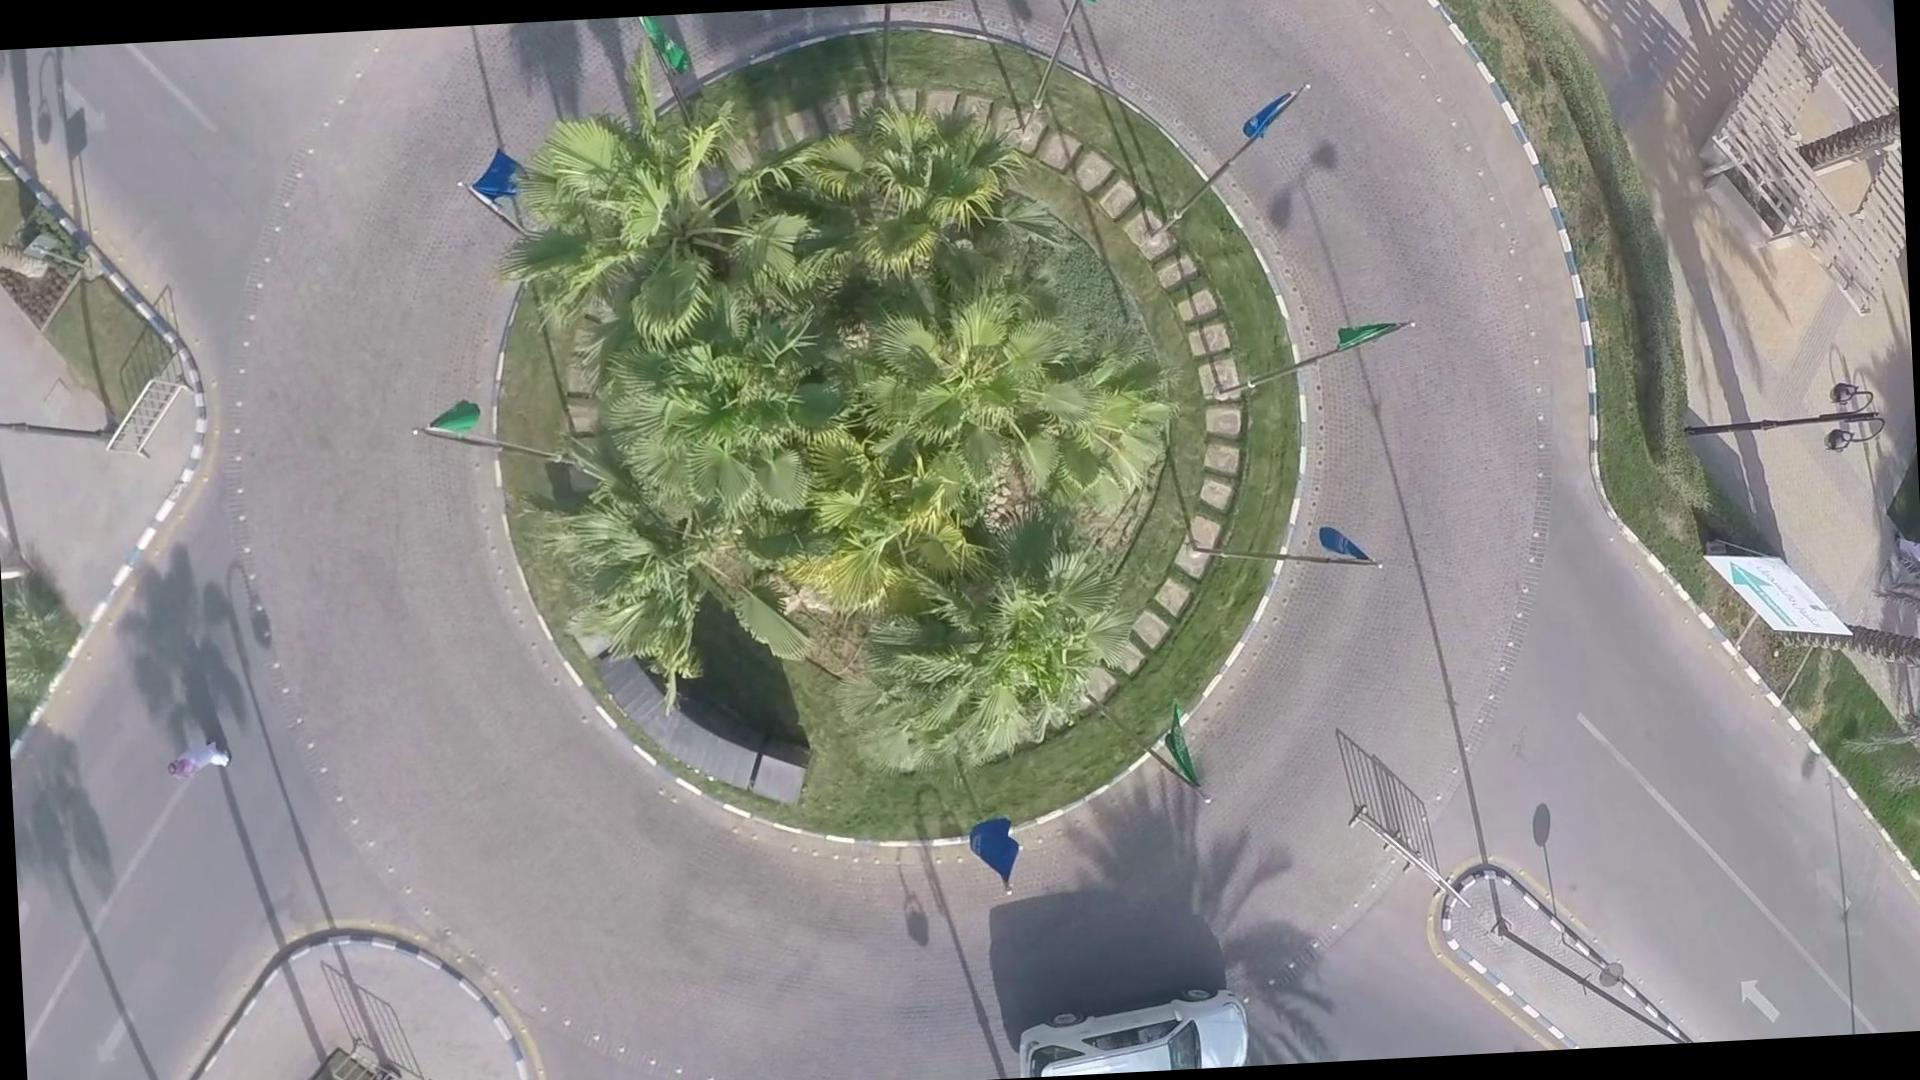vehicle: (993, 982, 1284, 1077)
